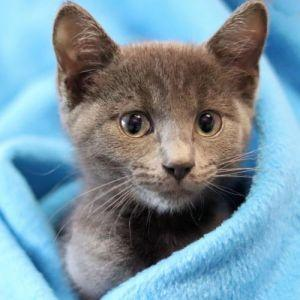rblue: (43, 1, 276, 235)
